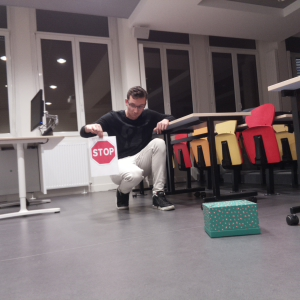stop: (91, 140, 116, 164)
